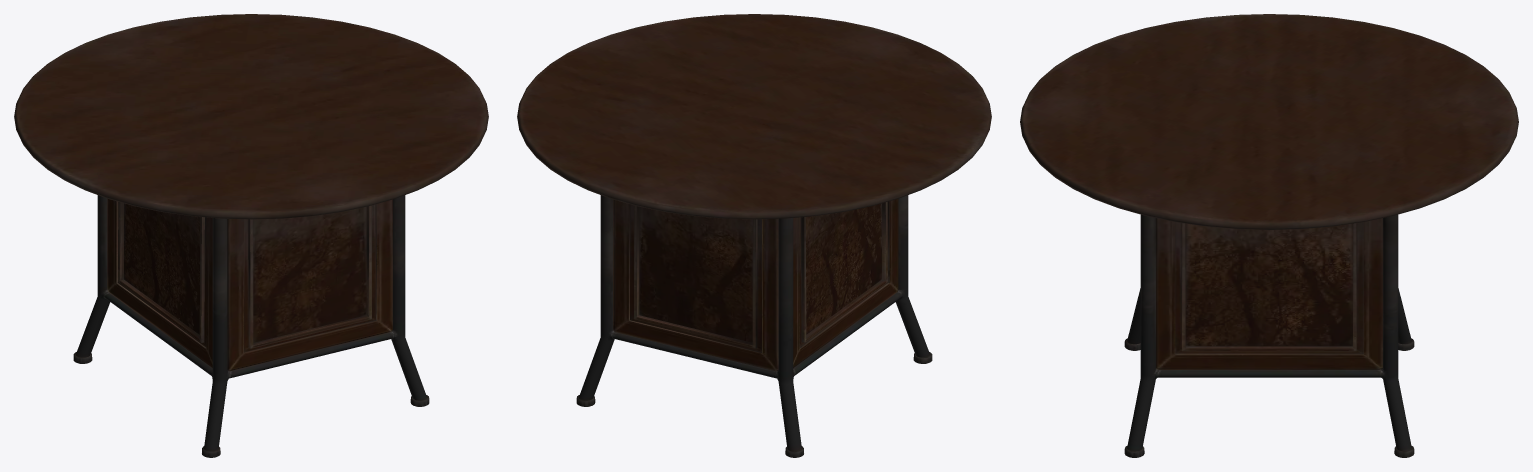
Rendered from round_wooden_table_02.glb.
3 views of the same model, side by side, from view 1: azimuth 30°, elevation 25°; view 2: azimuth 150°, elevation 25°; view 3: azimuth 270°, elevation 25° (orthographic). The views are drawn at different scales.
Parts seen in each view (by area): view 1: round_wooden_table_02; view 2: round_wooden_table_02; view 3: round_wooden_table_02.
Boxes of the visible parts, bbox=[...] form: round_wooden_table_02: bbox=[14, 14, 488, 457]; round_wooden_table_02: bbox=[517, 14, 991, 457]; round_wooden_table_02: bbox=[1020, 14, 1518, 457].
Bounding box in the file's own units: 1.2 × 0.75 × 1.2.
1 material, 1 textured.
